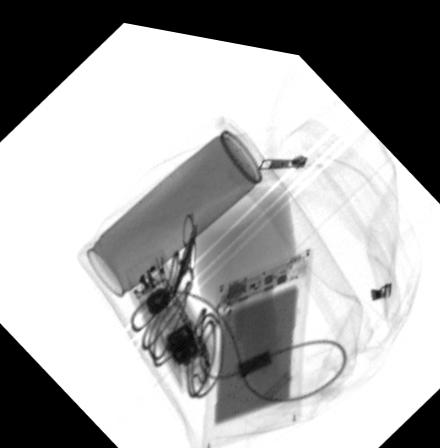Powerbank: (198, 232, 318, 446)
Scissors: (169, 205, 202, 300)
